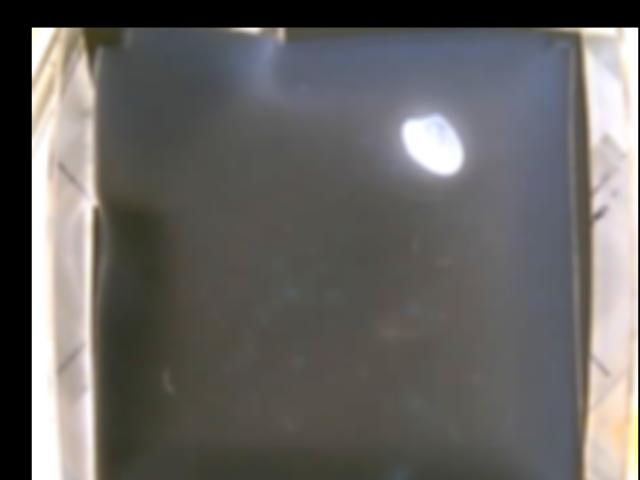Pebble: (403, 116, 460, 173)
